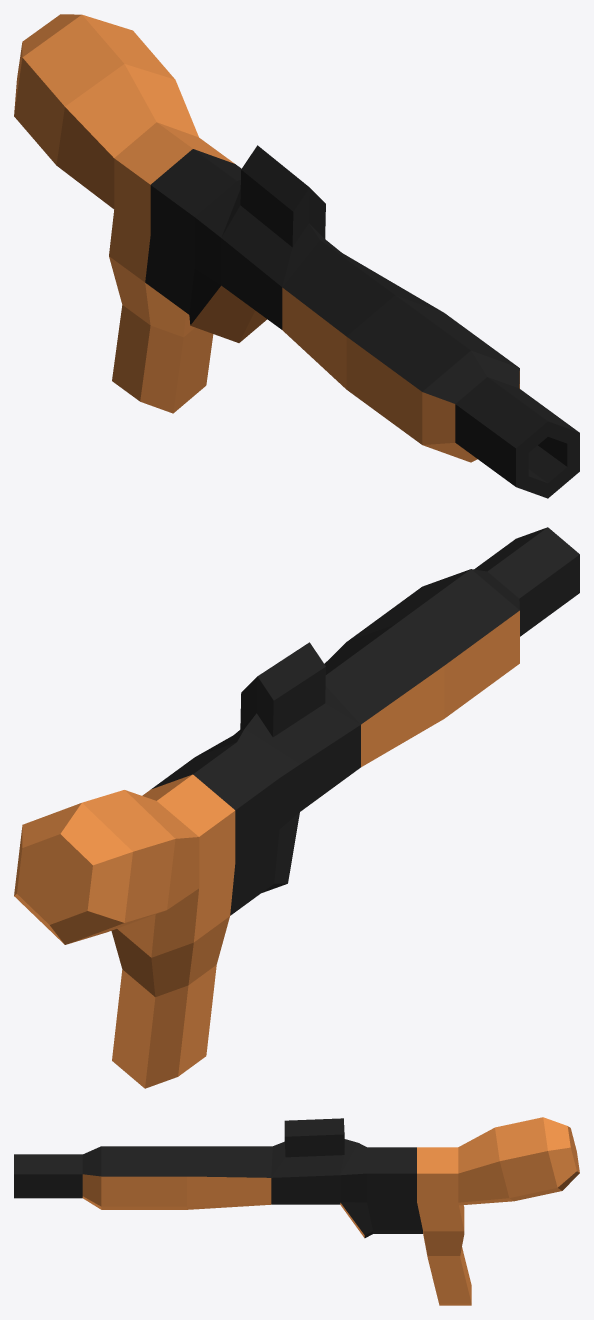
Rendered from Rifle.fbx.
3 views of the same model, one above another, from view 1: azimuth 30°, elevation 25°; view 2: azimuth 150°, elevation 25°; view 3: azimuth 270°, elevation 25° (orthographic). The views are drawn at different scales.
Visible parts, largest first — view 1: Cylinder; view 2: Cylinder; view 3: Cylinder.
Boxes of the visible parts, x1=… form: Cylinder: x1=14, y1=14, x2=579, y2=498; Cylinder: x1=14, y1=527, x2=579, y2=1088; Cylinder: x1=14, y1=1117, x2=579, y2=1305.
Bounding box in the file's own units: 64.63 × 186 × 505.
